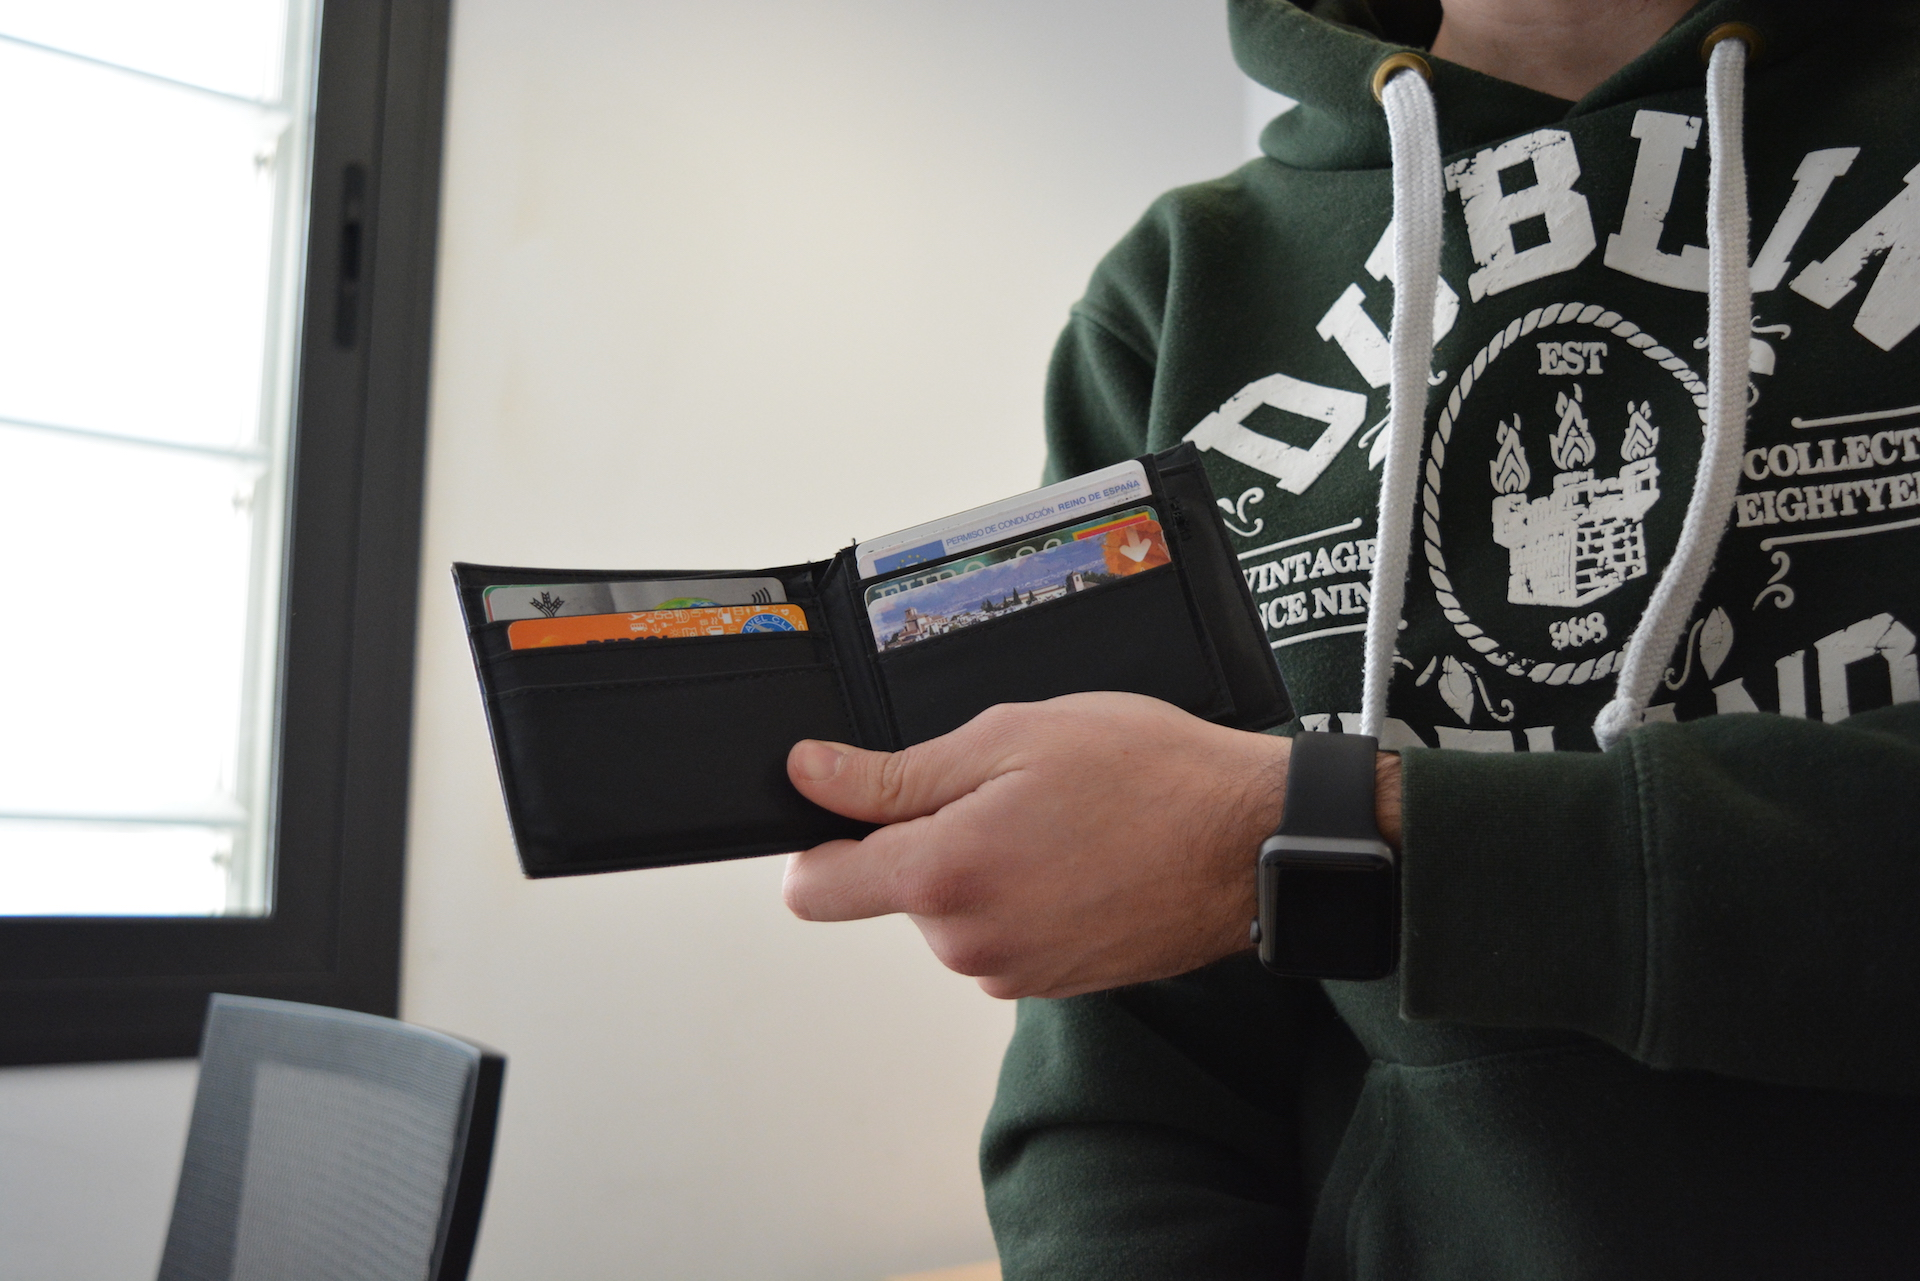monedero: (446, 435, 1302, 888)
